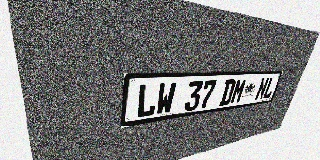3: (184, 81, 204, 111)
7: (198, 80, 217, 109)
D: (219, 79, 237, 106)
L: (135, 83, 158, 119), (262, 77, 277, 99)
M: (230, 79, 247, 104)
N: (254, 78, 270, 101)
W: (155, 82, 177, 116)
